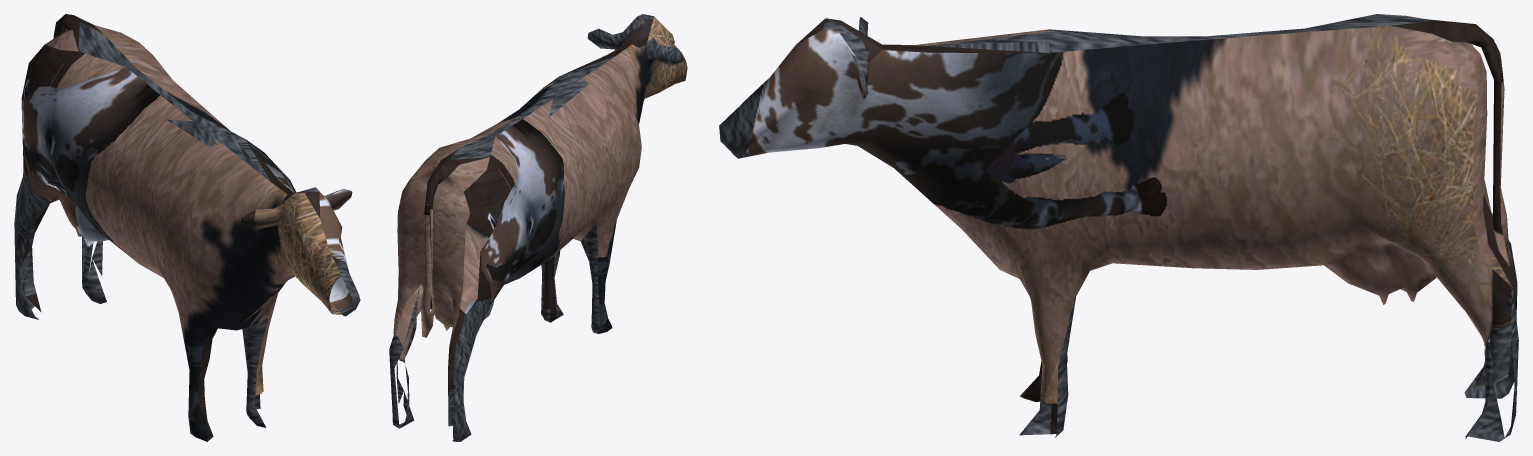
The model's file is Cow1.fbx.
3 views of the same model, side by side, from view 1: azimuth 30°, elevation 25°; view 2: azimuth 150°, elevation 25°; view 3: azimuth 270°, elevation 25° (orthographic). The views are drawn at different scales.
Visible parts, largest first — view 1: Cow; view 2: Cow; view 3: Cow.
Part boxes in pixels (x1,y1,x2,y2): Cow: (14, 14, 360, 441); Cow: (389, 14, 687, 441); Cow: (719, 14, 1518, 441).
Size of the model in its own units: 218 by 486 by 885.
